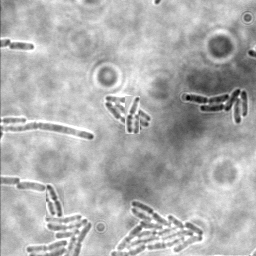Dividing: (1, 123, 95, 142), (46, 183, 64, 218), (125, 96, 140, 134), (8, 41, 35, 52)
Microcolony: (109, 200, 205, 255), (25, 212, 94, 255), (184, 89, 248, 126), (103, 96, 150, 132), (16, 182, 48, 193)
